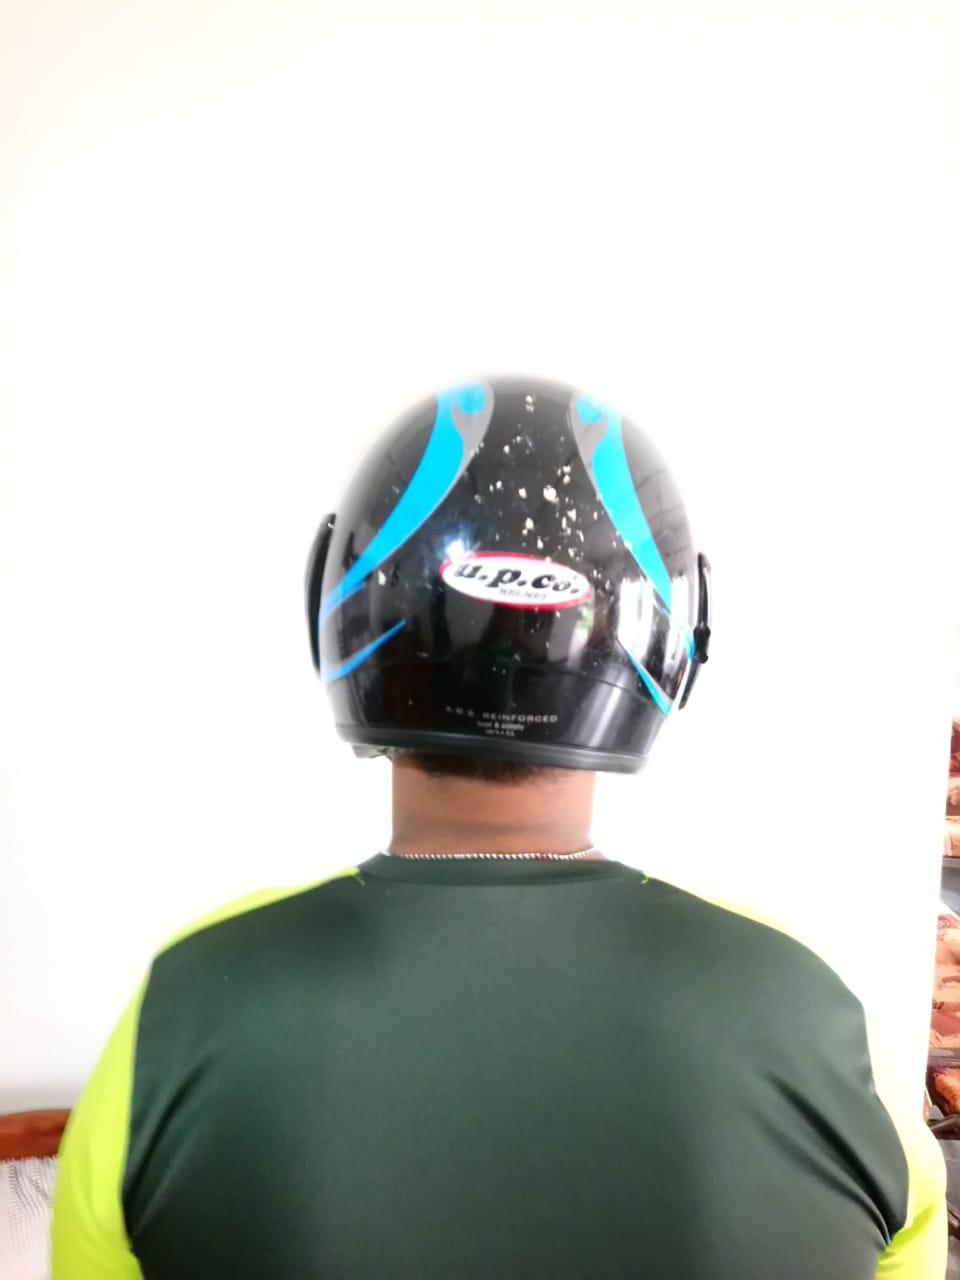helmet: (302, 375, 713, 775)
